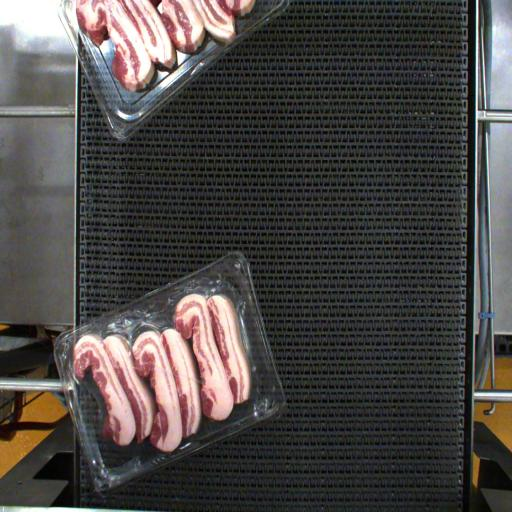unsealed: (66, 270, 290, 456)
